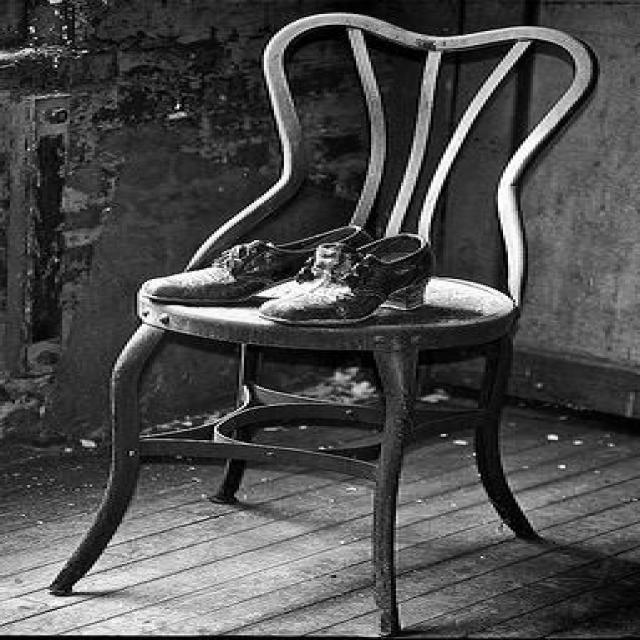chair: (50, 14, 600, 636)
